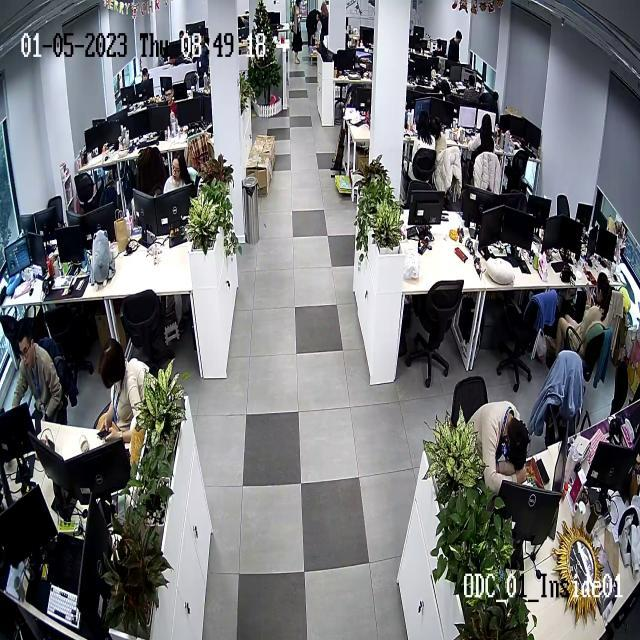person: (9, 321, 66, 427), (94, 338, 151, 441), (469, 401, 530, 484), (555, 273, 613, 358), (471, 114, 501, 164), (414, 112, 437, 176), (163, 154, 193, 193), (447, 29, 463, 67), (164, 87, 179, 127)
